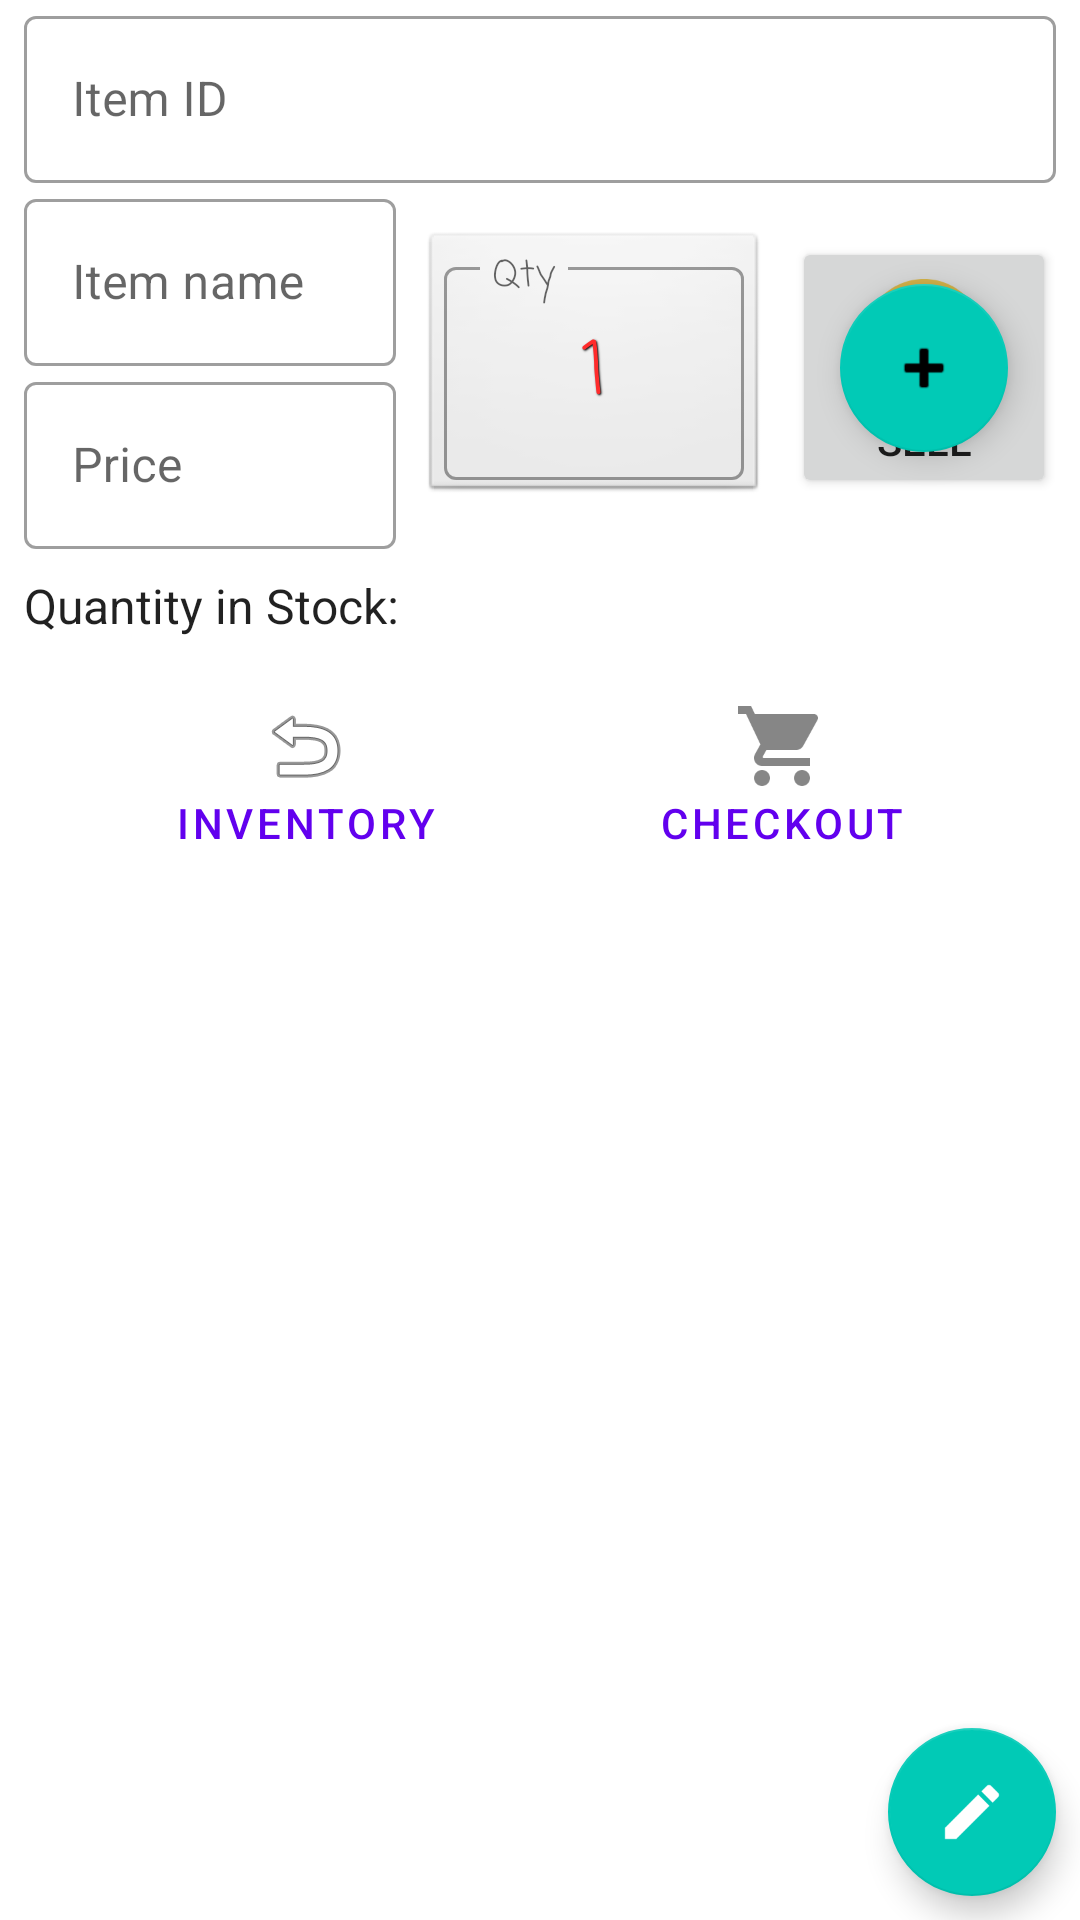

Icon click points for this 1080×1920 phone screenshot, format (x,y):
Edit Item: (972,1812)
